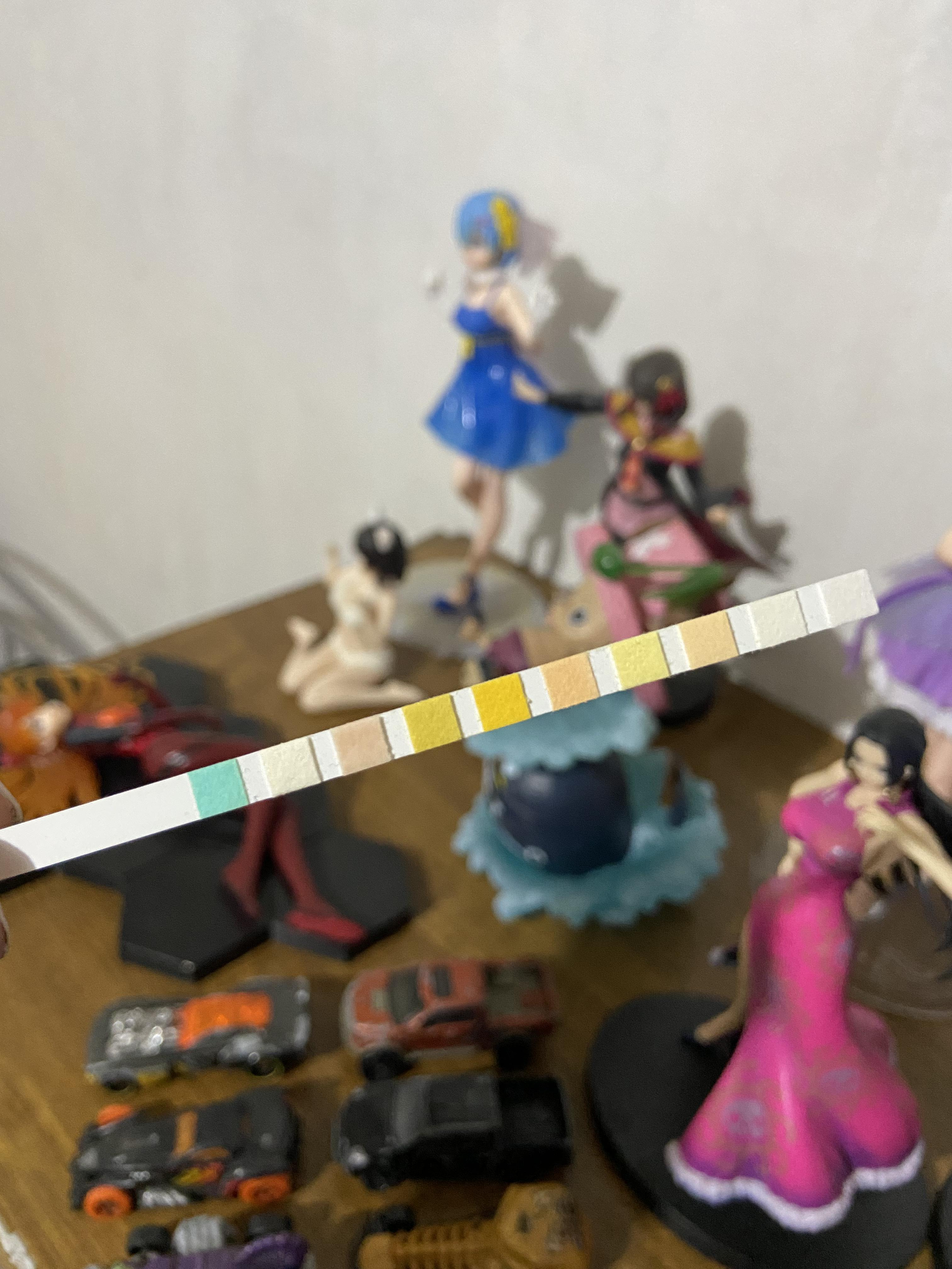Bilirubin: (273, 748, 309, 786)
Blood: (481, 684, 522, 722)
Glucose: (200, 769, 238, 808)
Ketone: (342, 726, 382, 764)
Leukocytes: (828, 580, 870, 617)
Nitrite: (756, 601, 798, 638)
Protein: (619, 642, 658, 681)
SpGravity: (411, 704, 452, 742)
Urobilinogen: (687, 621, 730, 659)
pH: (550, 663, 590, 701)
strip: (0, 568, 884, 882)
